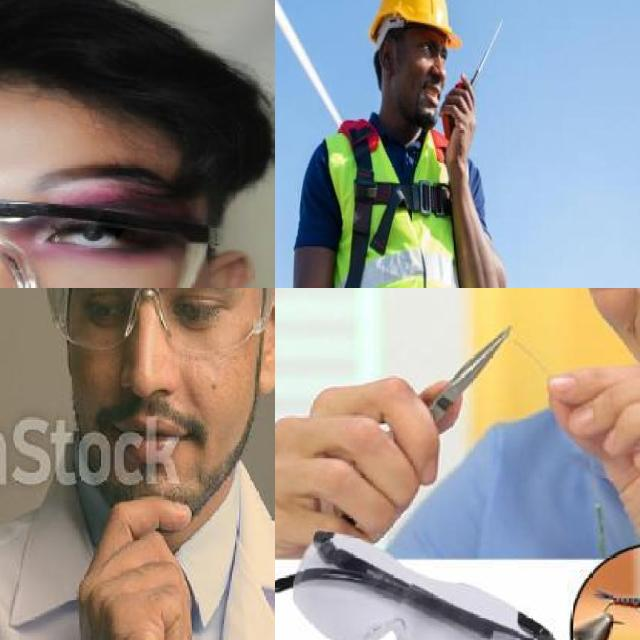Harness: (339, 120, 452, 288)
No_Ear-Protection: (250, 288, 275, 403)
face_nomask: (65, 288, 239, 472)
glasses: (0, 195, 228, 288), (42, 288, 275, 364)
hand_noglove: (275, 373, 470, 562), (543, 351, 640, 557), (77, 493, 206, 640)
head_nohelmet: (0, 0, 224, 150)
person: (0, 288, 275, 640)
